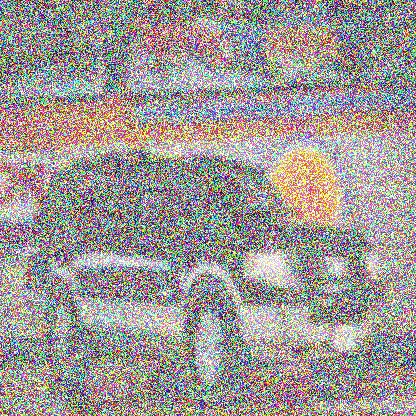Vehicle: (24, 150, 389, 398)
